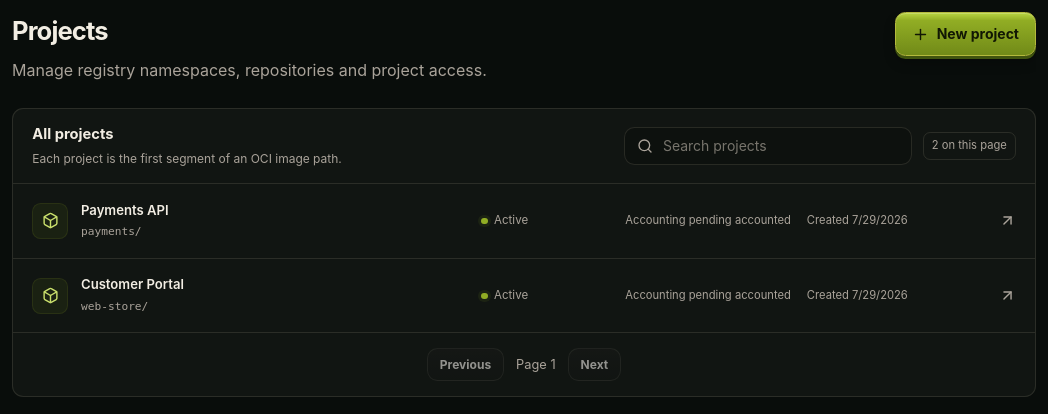
Scenario: ProjectsPage › filters projects by name or slug from the main panel search
This screenshot has width=1048, height=414.
In the search field named "Search projects": (768, 146) [624,127,912,165], type "payments"
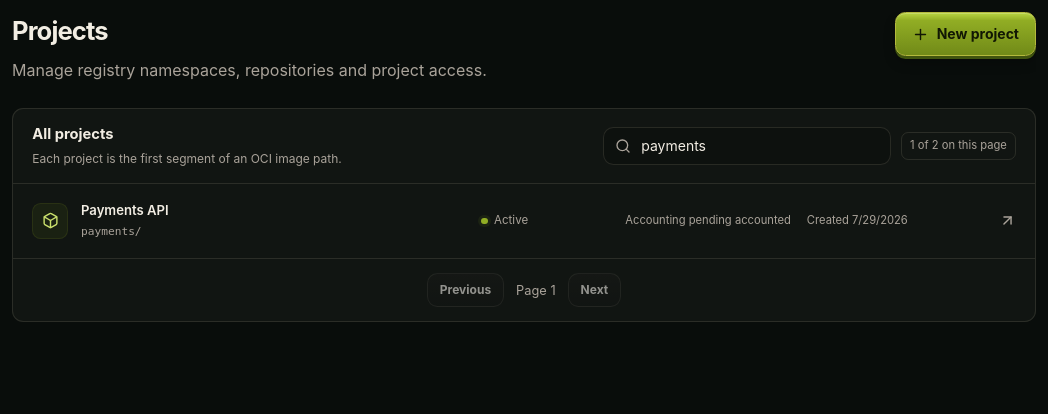
Expected: the text "Payments API" is shown, [81,201,169,220]
Expected: the text "Customer Portal" is gone
Expected: the text "1 of 2 on this page" is shown, [901,132,1016,160]
Replace the text in the search field named "Search projects" with "WEB-STORE": (747, 146) [603,127,891,165]
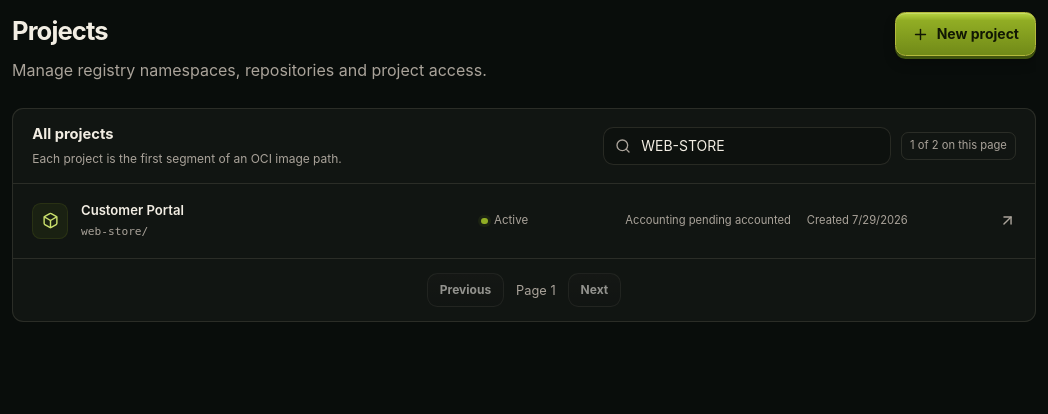
Expected: the text "Customer Portal" is shown, [81,201,184,220]
Expected: the text "Payments API" is gone
